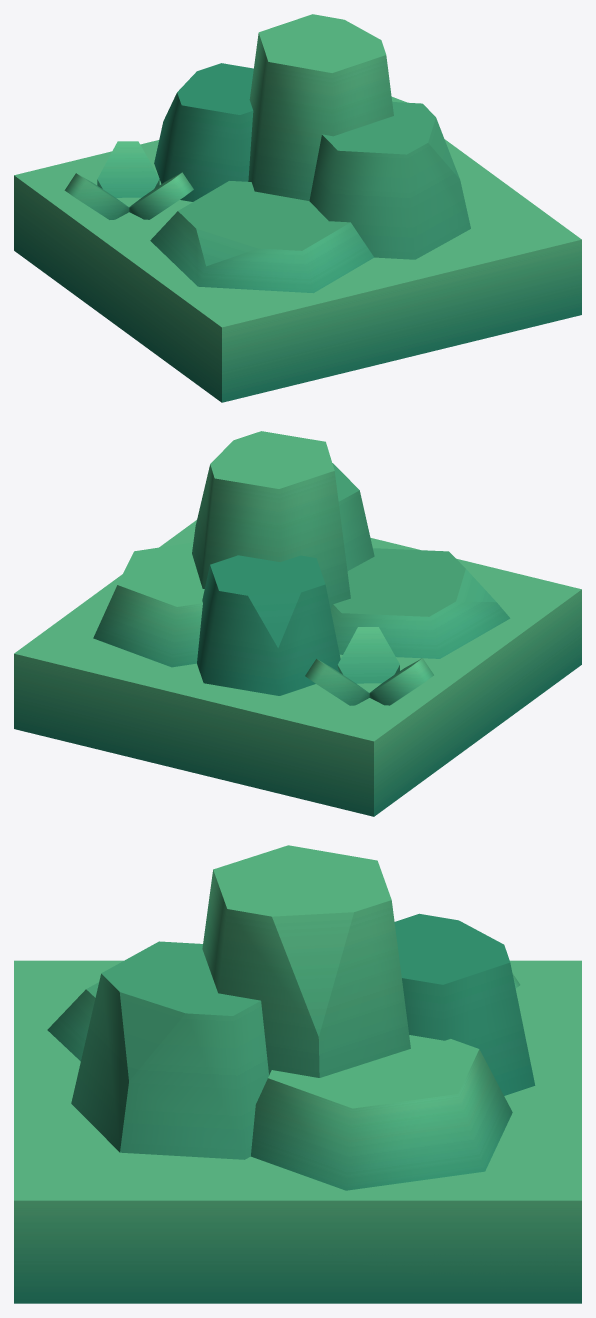
File: tile-hill.glb
3 views of the same model, one above another, from view 1: azimuth 30°, elevation 25°; view 2: azimuth 150°, elevation 25°; view 3: azimuth 270°, elevation 25° (orthographic). The views are drawn at different scales.
Parts seen in each view (by area): view 1: tile-hill; view 2: tile-hill; view 3: tile-hill.
Part boxes in pixels (x1,y1,x2,y2): tile-hill: (14, 14, 581, 402); tile-hill: (14, 431, 581, 816); tile-hill: (14, 845, 581, 1303).
Bounding box in the file's own units: 1 × 0.6146 × 1.
Materials: 1 (1 with a texture image).
